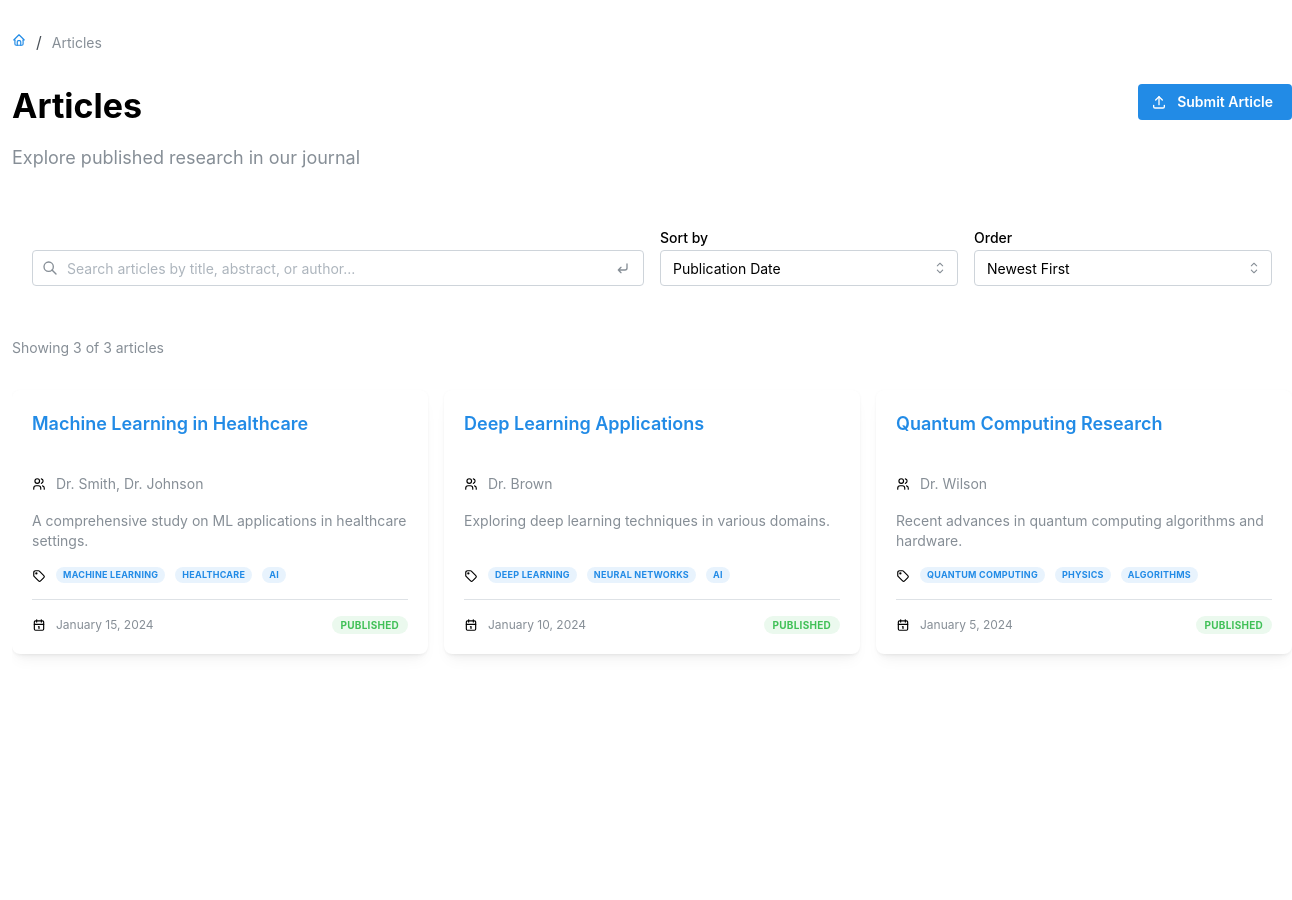
Test case: Articles Page - Search Functionality › Search Term Display and Clear Functionality › should clear search when X button is clicked
The image size is (1292, 900).
Check: the link "Machine Learning in Healthcare" is shown, box [32,413,308,434]
// Perform search
Type "test search" into the field with placeholder "Search articles by title, abstract, or author..." at (338,268), box [32,250,644,286]
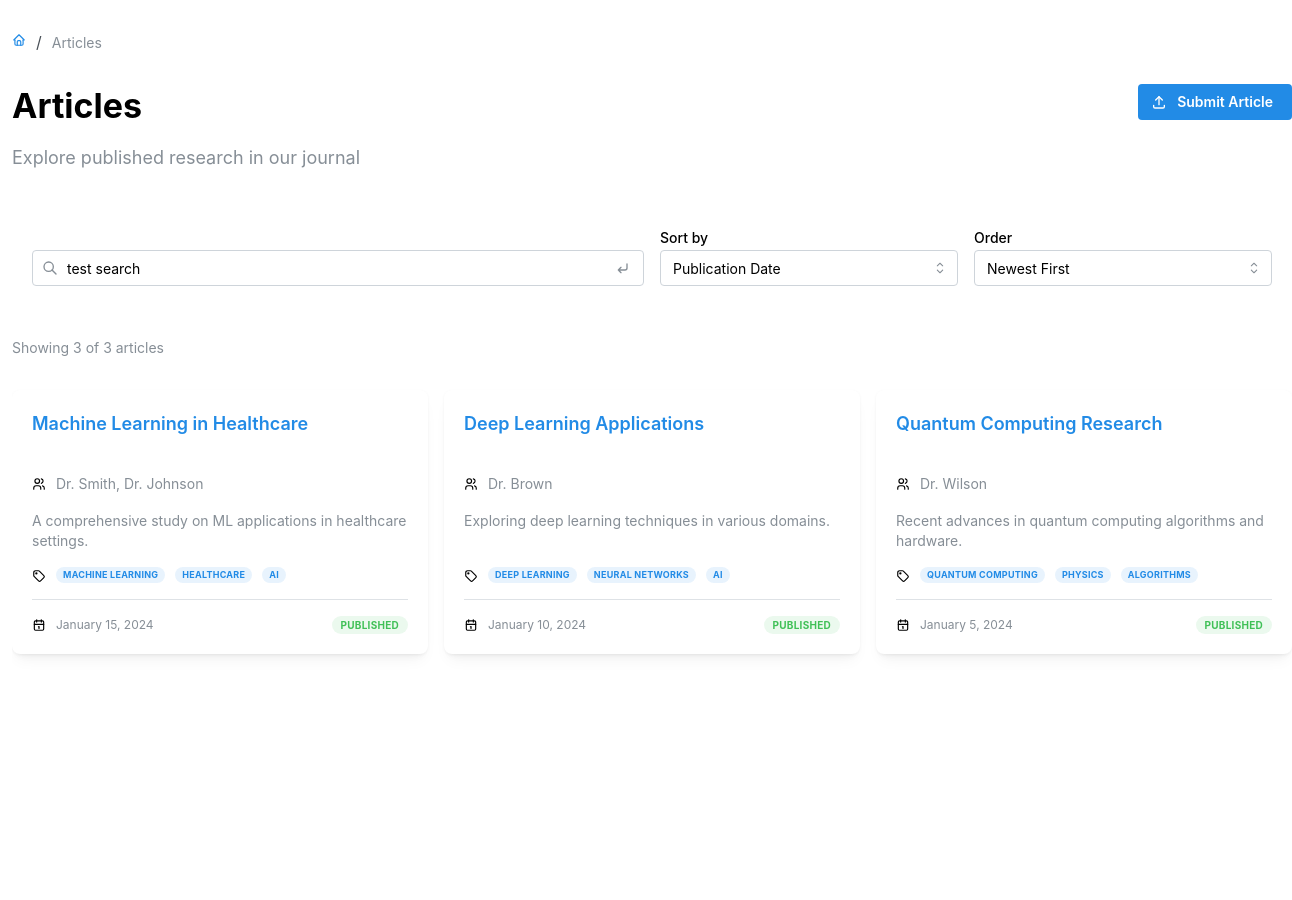
Submit the form with placeholder "Search articles by title, abstract, or author...", box [32,217,1272,294]
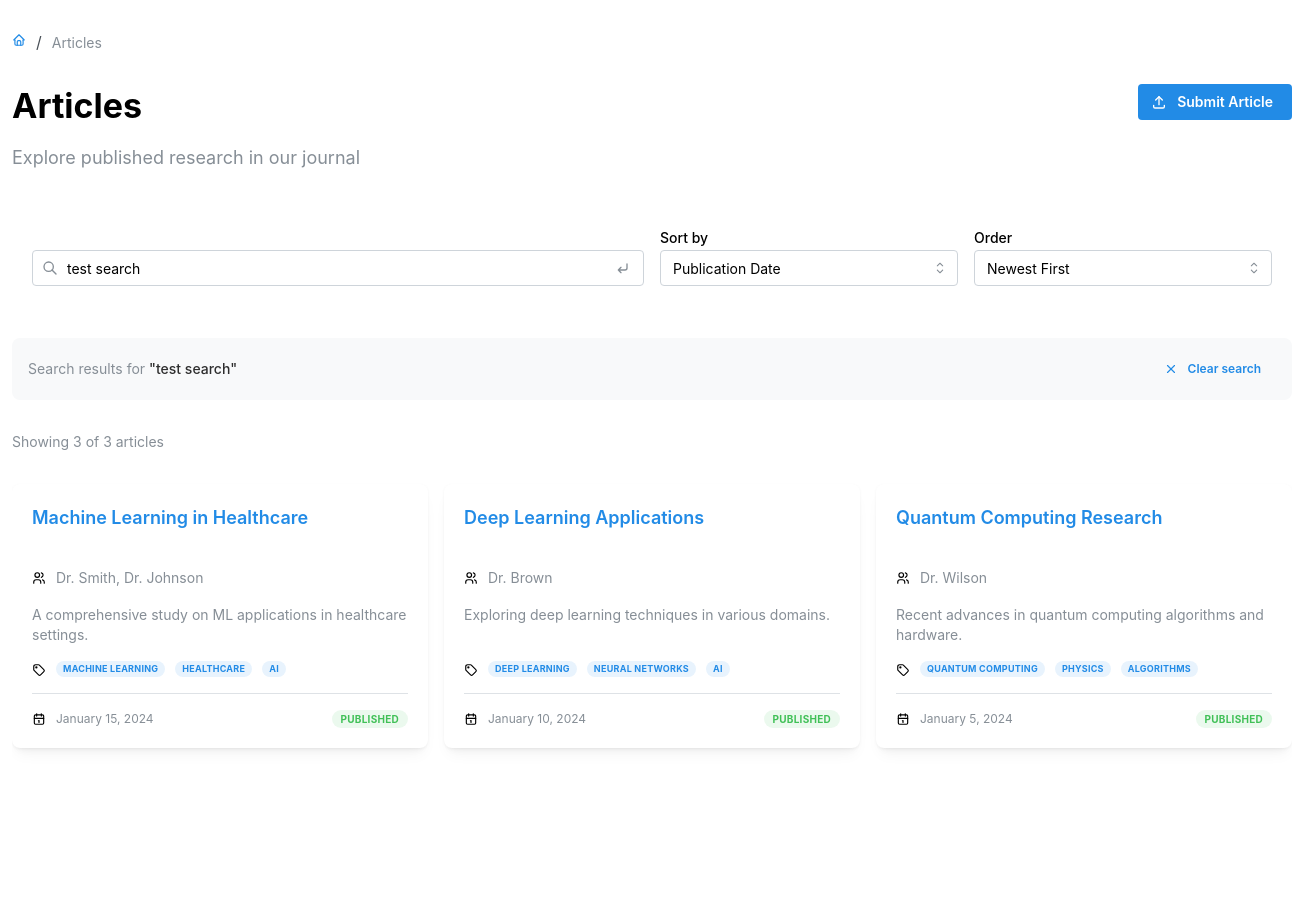
Check: the button "Clear search" is shown
// Click clear button
Click the button "Clear search" at (1215,369), box [1153,354,1276,384]
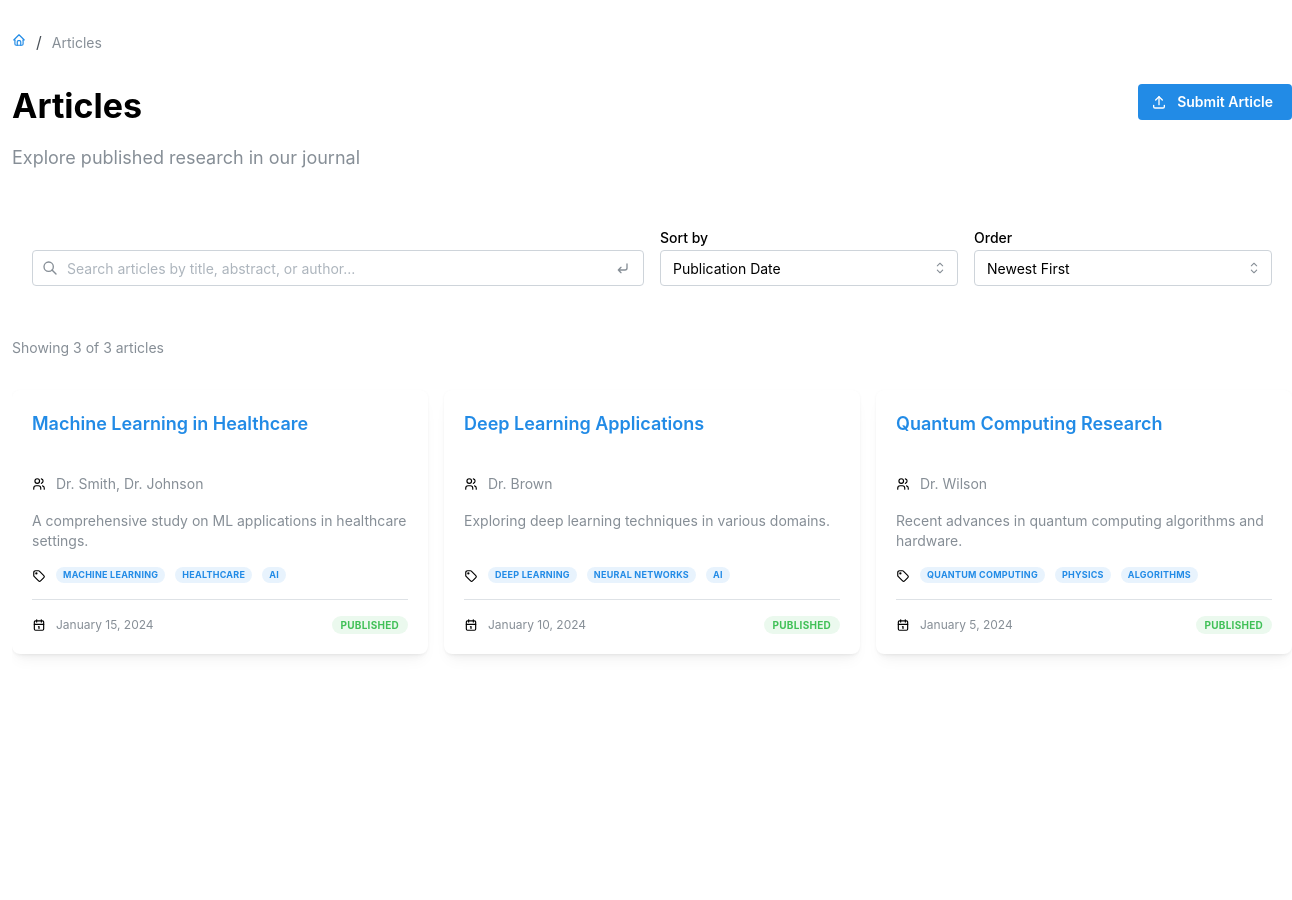
Check: the field with placeholder "Search articles by title, abstract, or author..." is empty, box [32,250,644,286]
Check: the button "Clear search" is gone
Check: the text "Search results for" is gone
